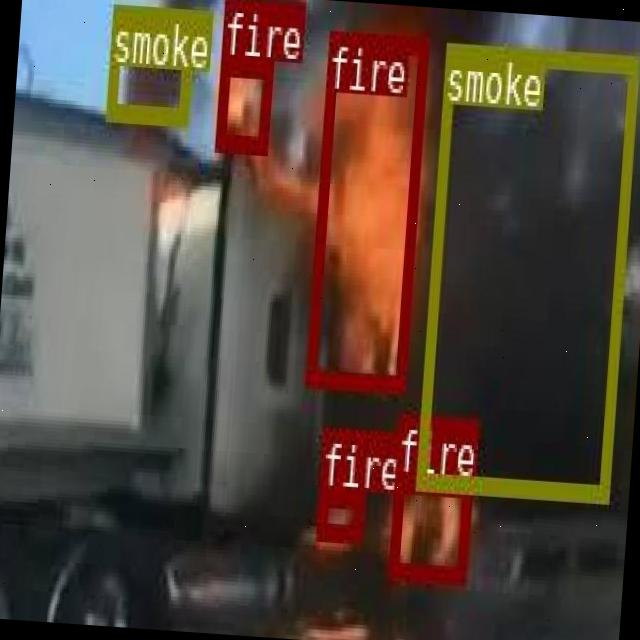fire: (304, 27, 428, 390), (388, 472, 472, 580), (213, 55, 270, 148), (315, 486, 364, 538)
smoke: (414, 40, 638, 499), (104, 1, 194, 120)
